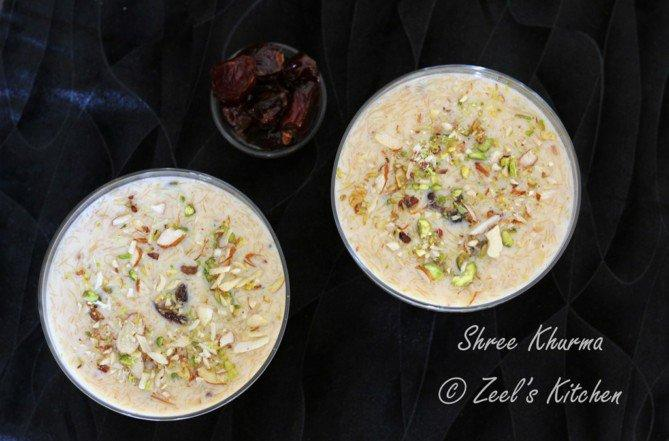kheer: (327, 53, 593, 315), (38, 167, 298, 421)
